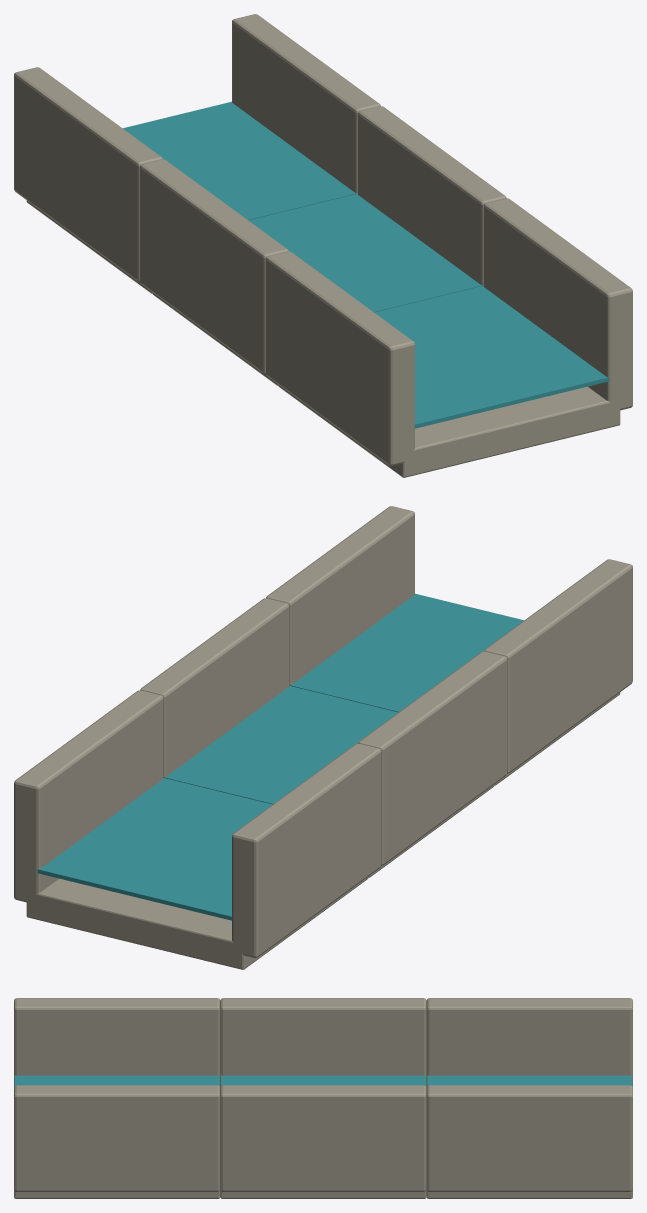
The model's file is Channel_Straight_Flowing.glb.
3 renders of one model, top to bottom at view 1: azimuth 30°, elevation 25°; view 2: azimuth 150°, elevation 25°; view 3: azimuth 270°, elevation 25°, orthographic. The views are drawn at different scales.
Visible parts, largest first — view 1: Structure, Water; view 2: Structure, Water; view 3: Structure, Water.
Boxes of the visible parts, bbox=[...] form: Structure: bbox=[14, 14, 632, 477]; Water: bbox=[123, 101, 609, 428]; Structure: bbox=[14, 506, 632, 969]; Water: bbox=[37, 593, 523, 920]; Structure: bbox=[14, 998, 632, 1198]; Water: bbox=[14, 1075, 632, 1085].
Size of the model in its own units: 2.24 by 1.17 by 6.
